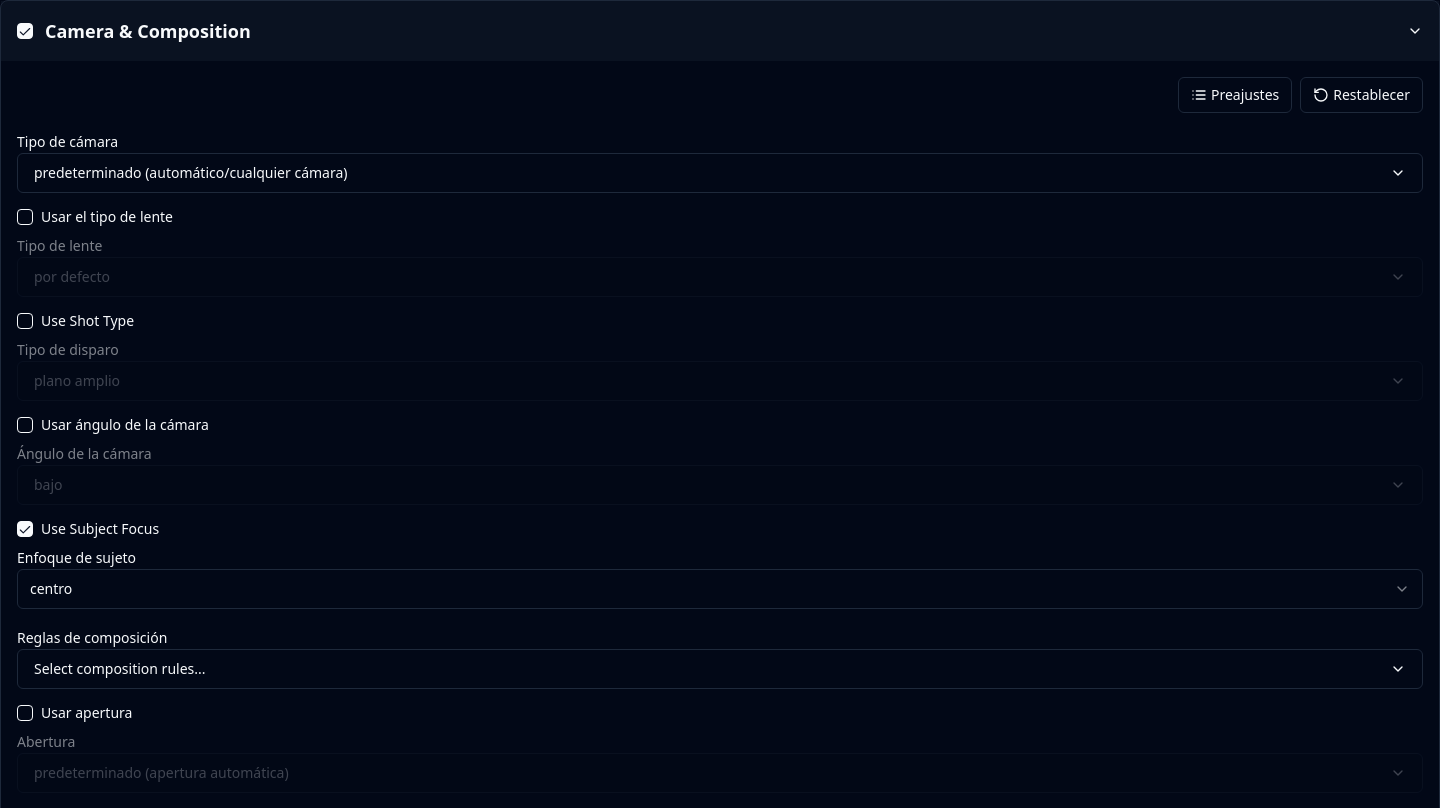
Test: CameraCompositionSection › subject focus dropdown localizes options when language changes
The width and height of the screenshot is (1440, 808).
Click the dropdown at [51, 588], box 17,569 -> 1423,609
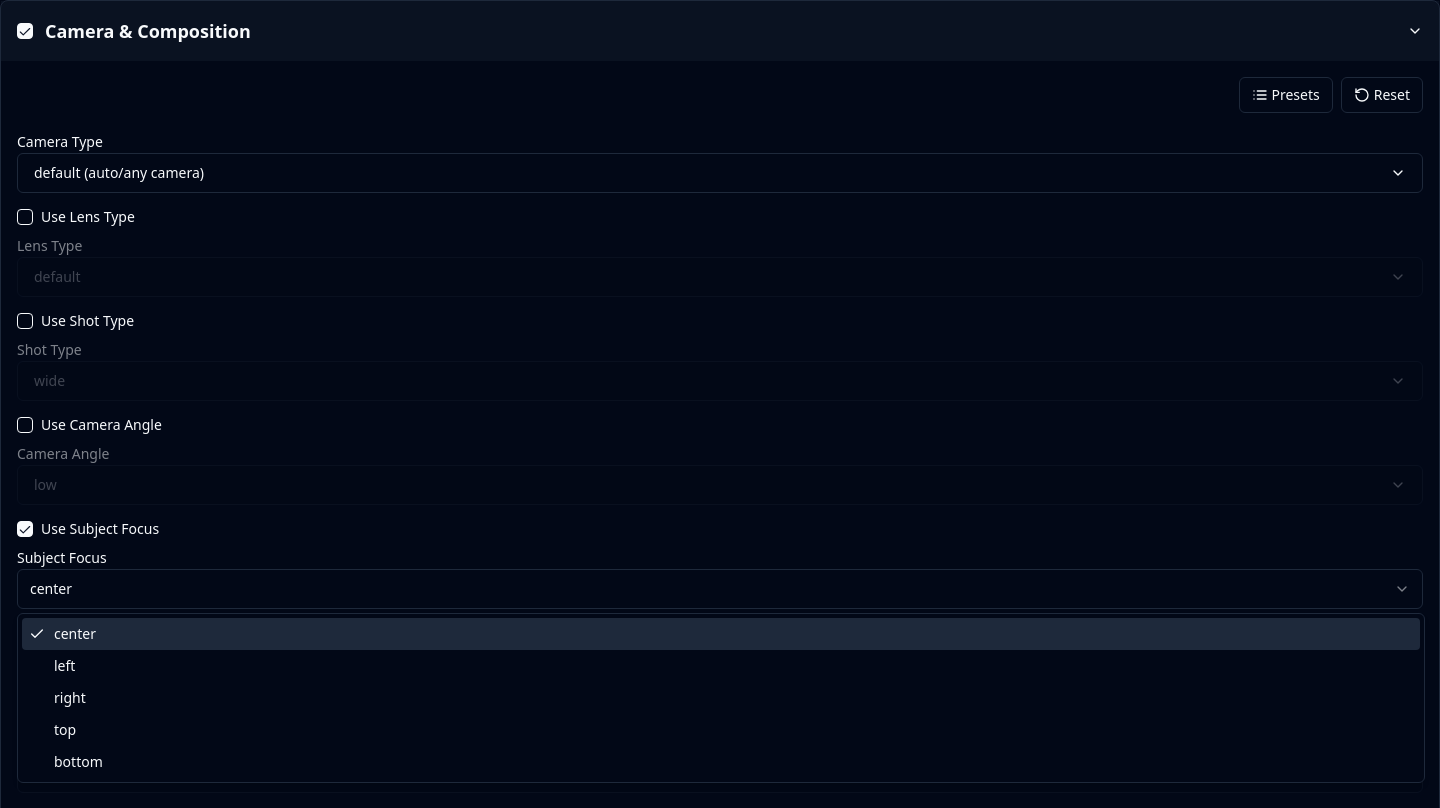
Check: the option named "centro" is shown, box 22,618 -> 1420,650
